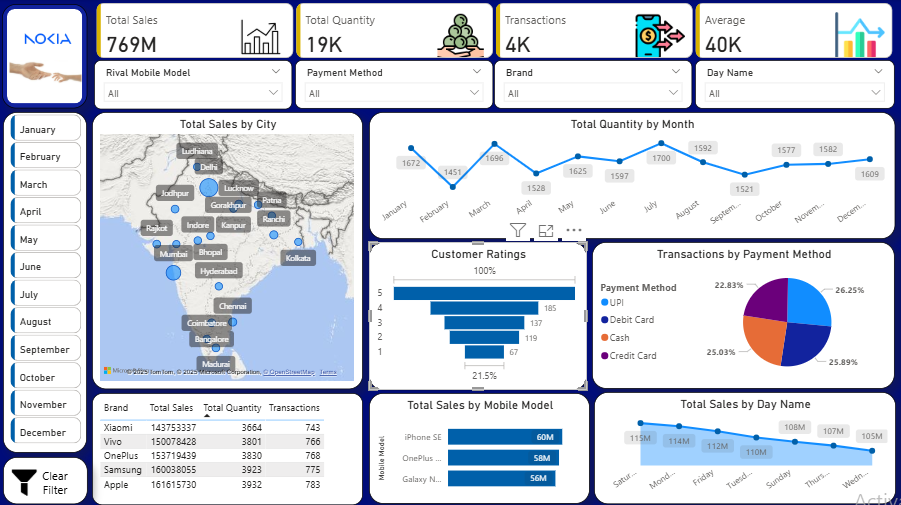

Layout of this report page (visuals, bound fields, positions):
{"tool":"powerbi","page":{"name":"Page 1","canvas":[1280,720],"ordinal":0},"visuals":[{"type":"shape","box":[5.5,6.9,120.8,148.2],"z":0},{"type":"shape","box":[7.1,160.2,119.1,483.3],"z":1000},{"type":"advancedSlicerVisual","fields":{"Values":["Sales_Data.Date.Variation.Date Hierarchy.Month"]},"box":[12.8,158.7,110.6,479.1],"z":2000},{"type":"cardVisual","fields":{"Data":["Sales_Data.Total Sales","Sales_Data.Total Quantity","Sales_Data.Transactions","Sales_Data.Average"]},"box":[134.6,5.7,1138.1,83.6],"z":3000},{"type":"map","fields":{"Category":["Sales_Data.City"],"Size":["Sales_Data.Total Sales"]},"box":[132.9,160.8,384.1,393.1],"z":4000},{"type":"lineChart","fields":{"Y":["Sales_Data.Total Quantity"],"Category":["Sales_Data.Date.Variation.Date Hierarchy.Month","Sales_Data.Date.Variation.Date Hierarchy.Day"]},"box":[525.8,160.2,745.5,180],"z":5000},{"type":"clusteredBarChart","fields":{"Category":["Sales_Data.Mobile Model"],"Y":["Sales_Data.Total Sales"]},"box":[525.8,558.4,313.2,157.3],"z":6000},{"type":"pieChart","fields":{"Category":["Sales_Data.Payment Method"],"Y":["Sales_Data.Transactions"]},"box":[841.9,344.4,429.4,208.3],"z":7000},{"type":"funnel","title":"Customer Ratings","fields":{"Category":["Sales_Data.Customer Ratings"],"Y":["CountNonNull(Sales_Data.Customer Ratings)"]},"box":[525.8,344.4,309,209.8],"z":8000},{"type":"areaChart","fields":{"Category":["Sales_Data.Day Name"],"Y":["Sales_Data.Total Sales"]},"box":[845.3,557.1,428.1,159.2],"z":9000},{"type":"tableEx","fields":{"Values":["Sales_Data.Brand","Sales_Data.Total Sales","Sales_Data.Total Quantity","Sales_Data.Transactions"]},"box":[133.2,558.4,384.1,158.7],"z":10000},{"type":"slicer","fields":{"Values":["Sales_Data.Mobile Model"]},"box":[136.2,87.1,281.4,70.3],"z":11000},{"type":"slicer","fields":{"Values":["Sales_Data.Payment Method"]},"box":[421,87.1,281.4,69.2],"z":12000},{"type":"slicer","fields":{"Values":["Sales_Data.Brand"]},"box":[703.5,87.1,281.4,69.2],"z":13000},{"type":"slicer","fields":{"Values":["Sales_Data.Day Name"]},"box":[987.9,86.5,283.5,69.4],"z":14000},{"type":"image","box":[18.4,22.7,104.9,66.6],"z":15000},{"type":"image","box":[11.4,71.5,111.6,64.4],"z":16000},{"type":"shape","box":[7.1,649.1,120.5,66.6],"z":17000},{"type":"image","box":[7.1,660.5,60.9,49.6],"z":18000},{"type":"textbox","box":[51,659.1,59.5,60.9],"z":19000}]}

Visuals, with their boxes in screenshot pixels (x1, y1, x2, y2), scaled from the page's 1280x720 canvas onto the 901x505 screenshot:
shape: select_region(4, 5, 89, 109)
shape: select_region(5, 112, 89, 451)
advancedSlicerVisual - Sales_Data.Date.Variation.Date Hierarchy.Month: select_region(9, 111, 87, 447)
cardVisual - Sales_Data.Total Sales x Sales_Data.Total Quantity: select_region(95, 4, 896, 63)
map - Sales_Data.City x Sales_Data.Total Sales: select_region(94, 113, 364, 388)
lineChart - Sales_Data.Total Quantity x Sales_Data.Date.Variation.Date Hierarchy.Month: select_region(370, 112, 895, 239)
clusteredBarChart - Sales_Data.Mobile Model x Sales_Data.Total Sales: select_region(370, 392, 591, 502)
pieChart - Sales_Data.Payment Method x Sales_Data.Transactions: select_region(593, 242, 895, 388)
"Customer Ratings" funnel: select_region(370, 242, 588, 389)
areaChart - Sales_Data.Day Name x Sales_Data.Total Sales: select_region(595, 391, 896, 502)
tableEx - Sales_Data.Brand x Sales_Data.Total Sales: select_region(94, 392, 364, 503)
slicer - Sales_Data.Mobile Model: select_region(96, 61, 294, 110)
slicer - Sales_Data.Payment Method: select_region(296, 61, 494, 110)
slicer - Sales_Data.Brand: select_region(495, 61, 693, 110)
slicer - Sales_Data.Day Name: select_region(695, 61, 895, 109)
image: select_region(13, 16, 87, 63)
image: select_region(8, 50, 87, 95)
shape: select_region(5, 455, 90, 502)
image: select_region(5, 463, 48, 498)
textbox: select_region(36, 462, 78, 504)
